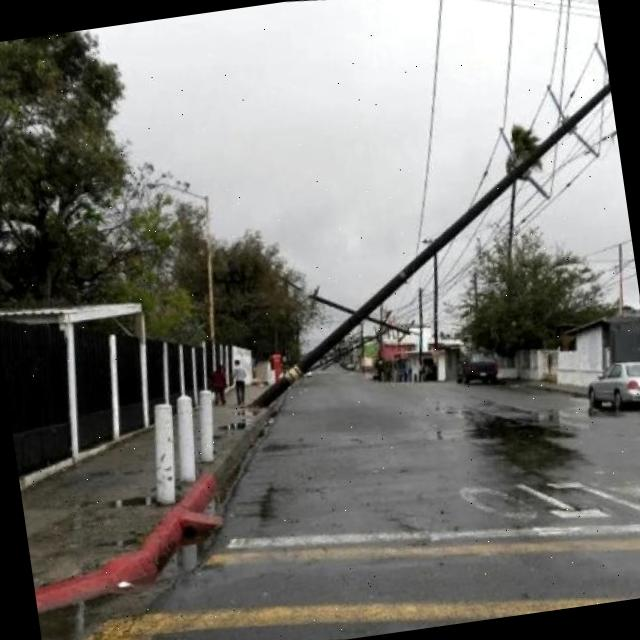Broken Pole: (248, 82, 611, 410)
